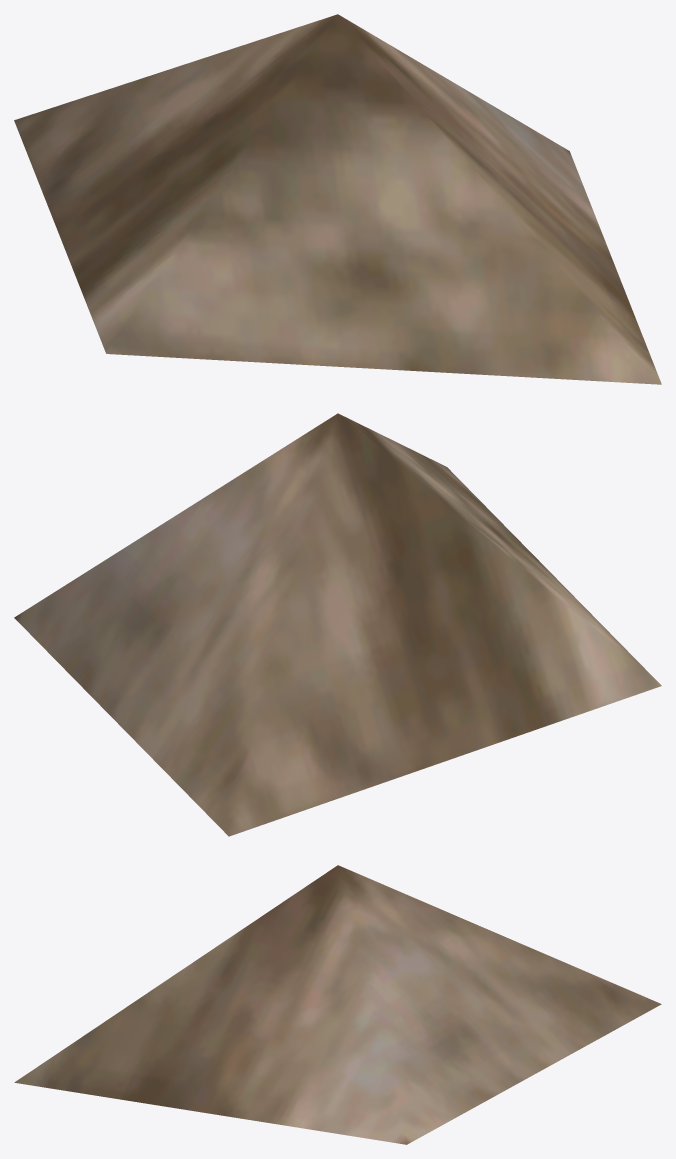
File: OVERHILL_A_01_PLANE05.fbx
The picture shows the model from 3 angles, top to bottom: view 1: azimuth 30°, elevation 25°; view 2: azimuth 150°, elevation 25°; view 3: azimuth 270°, elevation 25°; orthographic projection. The views are drawn at different scales.
Parts seen in each view (by area): view 1: OVERHILL_A_01_PLANE05; view 2: OVERHILL_A_01_PLANE05; view 3: OVERHILL_A_01_PLANE05.
Part boxes in pixels (bbox=[...]): OVERHILL_A_01_PLANE05: bbox=[14, 14, 661, 384]; OVERHILL_A_01_PLANE05: bbox=[14, 413, 661, 836]; OVERHILL_A_01_PLANE05: bbox=[14, 865, 661, 1144].
Size of the model in its own units: 1134 by 465 by 1531.
1 material, 1 textured.
